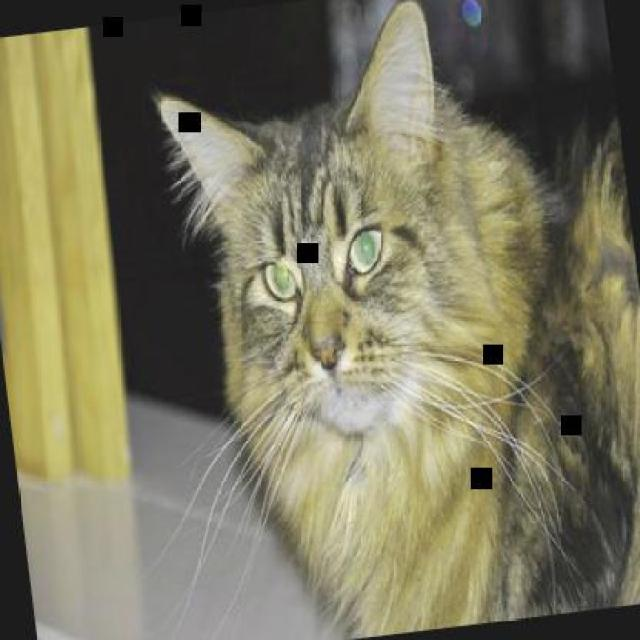cat: (146, 0, 638, 638)
